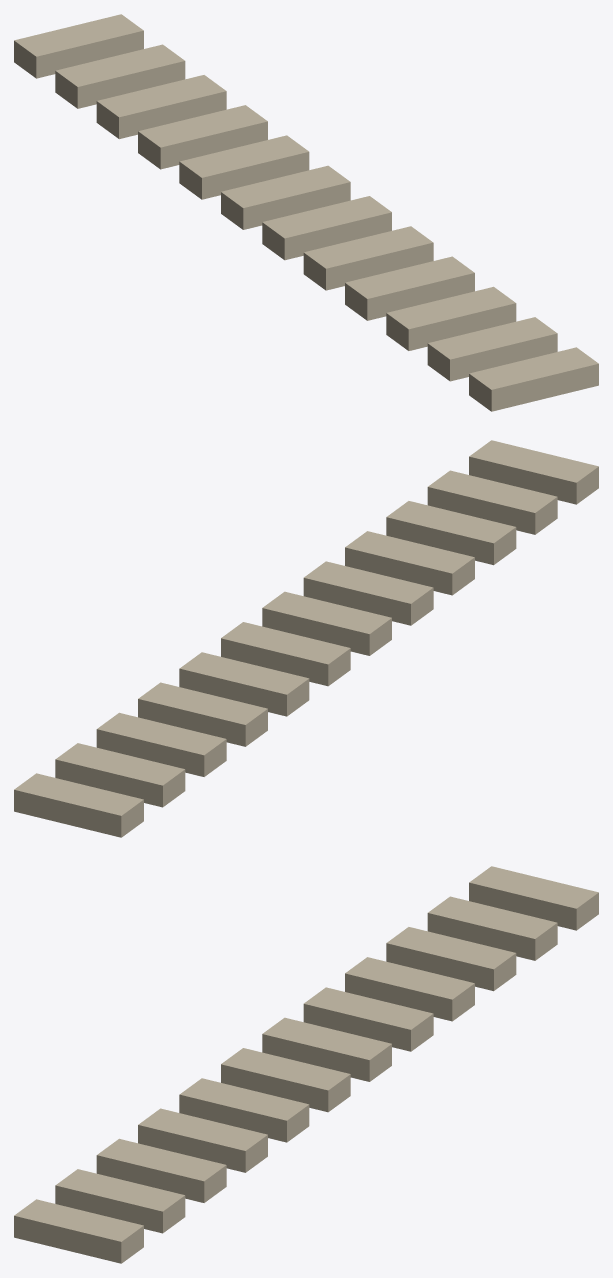
Rendered from 1192-Buildings-shell-pieces-roof-terrace-emitTerrace-120-triangles-1-80-x-0-35-x-13-8.glb.
3 renders of one model, top to bottom at view 1: azimuth 30°, elevation 25°; view 2: azimuth 150°, elevation 25°; view 3: azimuth 330°, elevation 25°, orthographic.
Visible parts, largest first — view 1: emitTerrace; view 2: emitTerrace; view 3: emitTerrace.
Part boxes in pixels (box(x1,y1,x2,y2)): emitTerrace: box(14, 14, 598, 411); emitTerrace: box(14, 440, 598, 837); emitTerrace: box(14, 866, 598, 1263).
Bounding box in the file's own units: 1.8 × 0.35 × 13.85.
